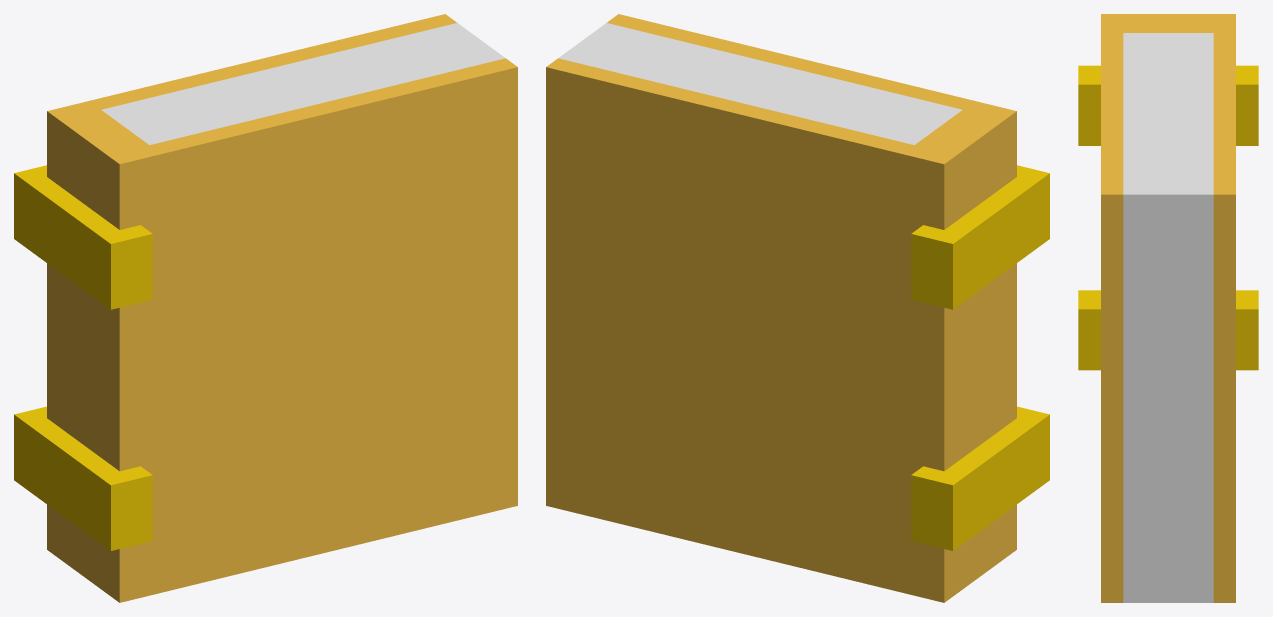
The model's file is SchoolPack-61-book.obj.
3 views of the same model, side by side, from view 1: azimuth 30°, elevation 25°; view 2: azimuth 150°, elevation 25°; view 3: azimuth 270°, elevation 25° (orthographic). The views are drawn at different scales.
Visible parts, largest first — view 1: book; view 2: book; view 3: book.
Boxes of the visible parts, x1=… form: book: x1=14, y1=14, x2=517, y2=602; book: x1=546, y1=14, x2=1049, y2=602; book: x1=1078, y1=14, x2=1258, y2=602.
Bounding box in the file's own units: 2 × 2 × 0.8.
1 material, 1 textured.
